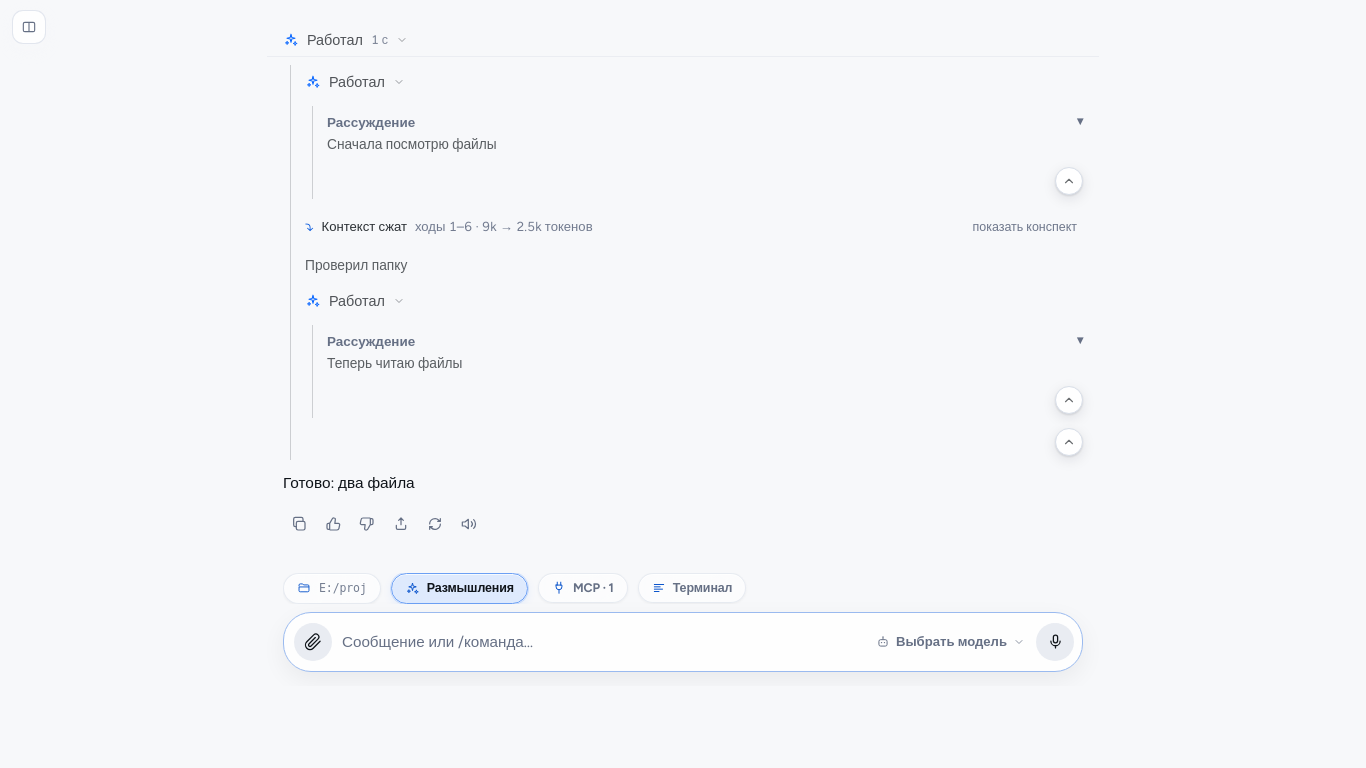
it: compaction row › stands inside the turn it squeezed, in place: sizes, turns, digest behind the toggle
This screenshot has width=1366, height=768.
Check: the text "Контекст сжат" is shown, box [322,218,407,236]
Check: the element that starts with "Контекст сжат" is shown, box [305,211,1083,243]
// The digest itself is what the row is for — readable back, not a footnote.
Click the button "показать конспект".
click(1025, 227)  # box [966,217,1083,237]
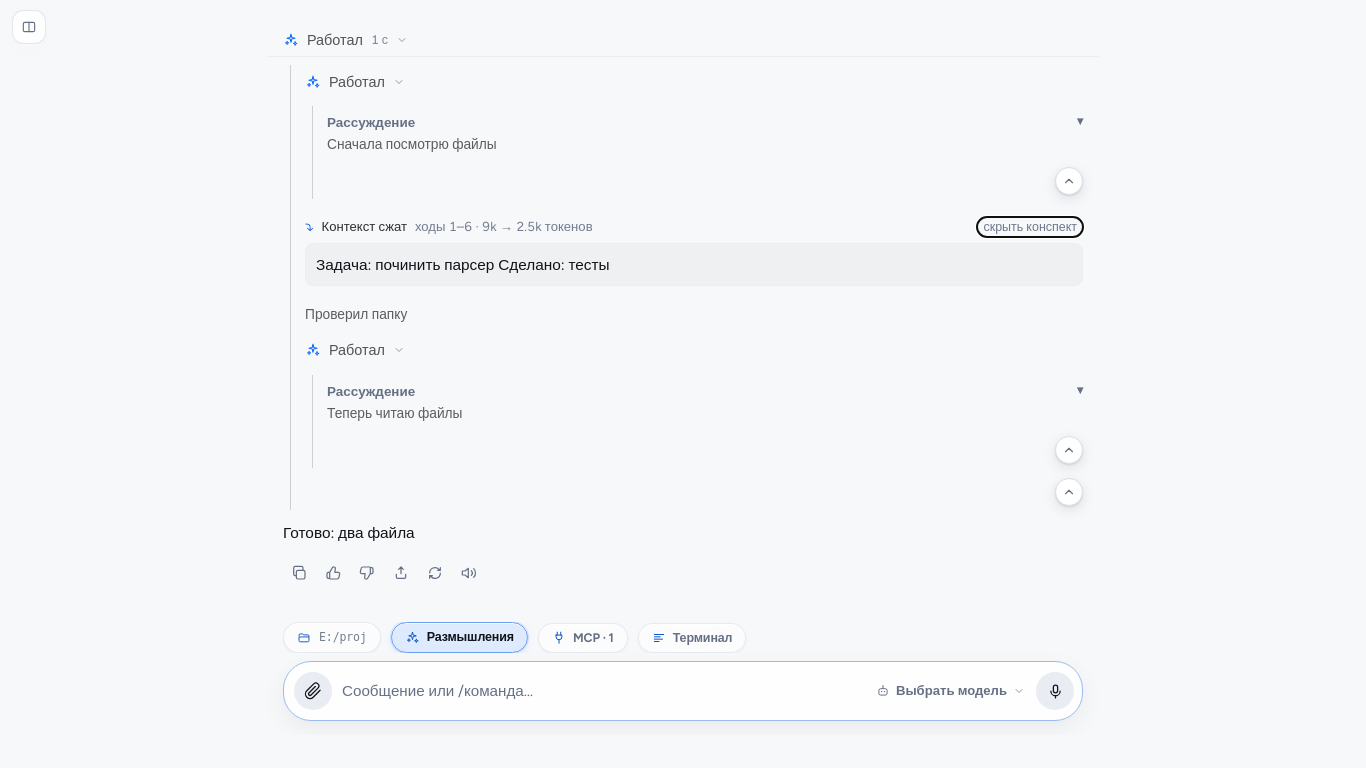
Check: the text "починить парсер" is shown, box [316,255,610,274]
Check: the button "скрыть конспект" is shown, box [978,217,1083,237]
